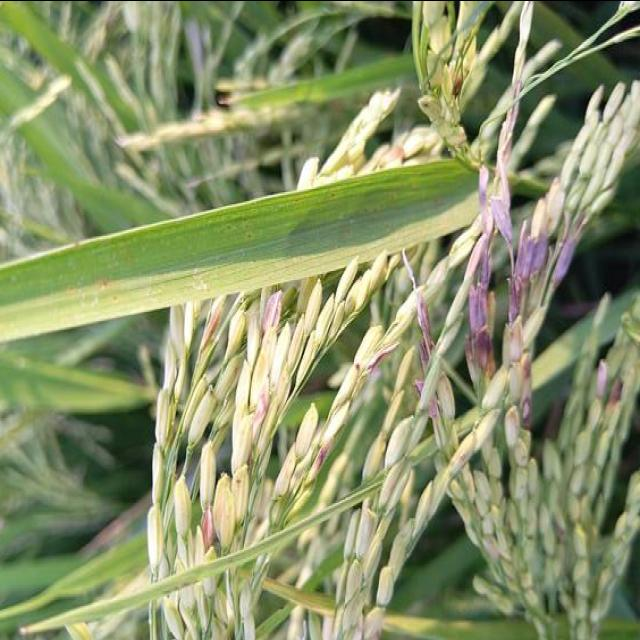Panicle Blight: (516, 235, 555, 293), (305, 428, 334, 485), (465, 329, 497, 378), (199, 296, 221, 355), (262, 291, 286, 335), (469, 282, 488, 335), (252, 376, 270, 431), (436, 372, 457, 419), (553, 235, 575, 279), (475, 237, 492, 291), (370, 143, 407, 167), (508, 273, 525, 325), (367, 344, 397, 372), (477, 164, 492, 218), (200, 510, 216, 555), (416, 287, 430, 335), (450, 438, 473, 466), (595, 356, 609, 399), (419, 337, 433, 376), (607, 378, 623, 403), (522, 391, 532, 428), (428, 390, 440, 420), (521, 353, 532, 384), (217, 622, 235, 640), (452, 76, 465, 94), (412, 376, 423, 394)
